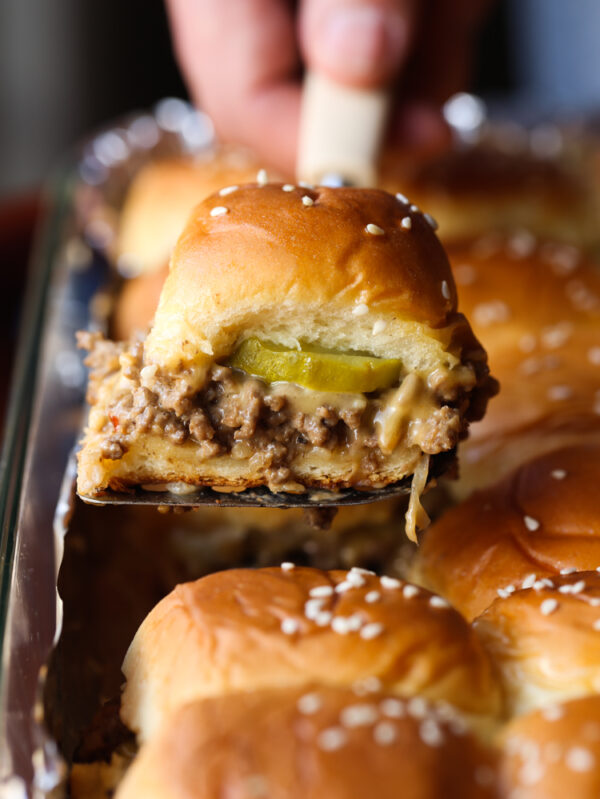hamburger_buns: (131, 171, 518, 386), (141, 575, 492, 799)
